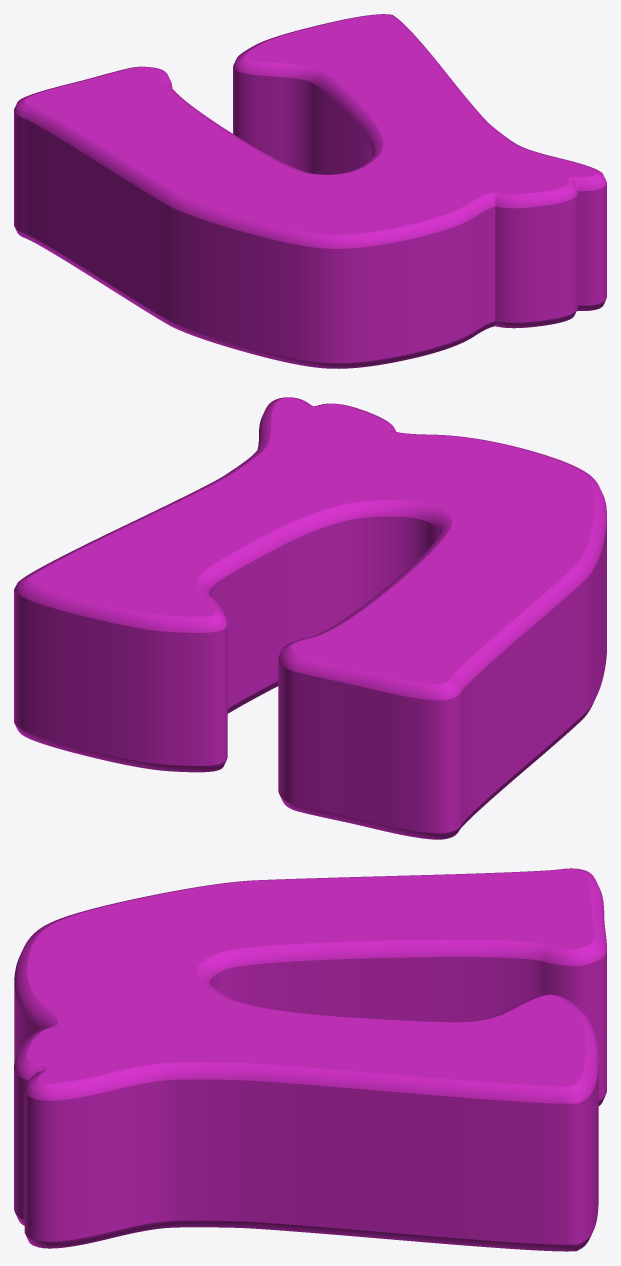
File: Bubble_Letter_n.fbx
3 renders of one model, top to bottom at view 1: azimuth 30°, elevation 25°; view 2: azimuth 150°, elevation 25°; view 3: azimuth 270°, elevation 25°, orthographic. The views are drawn at different scales.
Visible parts, largest first — view 1: BubbleLetter_n; view 2: BubbleLetter_n; view 3: BubbleLetter_n.
Part boxes in pixels (x1=…): BubbleLetter_n: x1=14, y1=14, x2=606, y2=368; BubbleLetter_n: x1=14, y1=397, x2=606, y2=839; BubbleLetter_n: x1=14, y1=868, x2=606, y2=1251.
Size of the model in its own units: 0.4169 by 0.14 by 0.4571.
